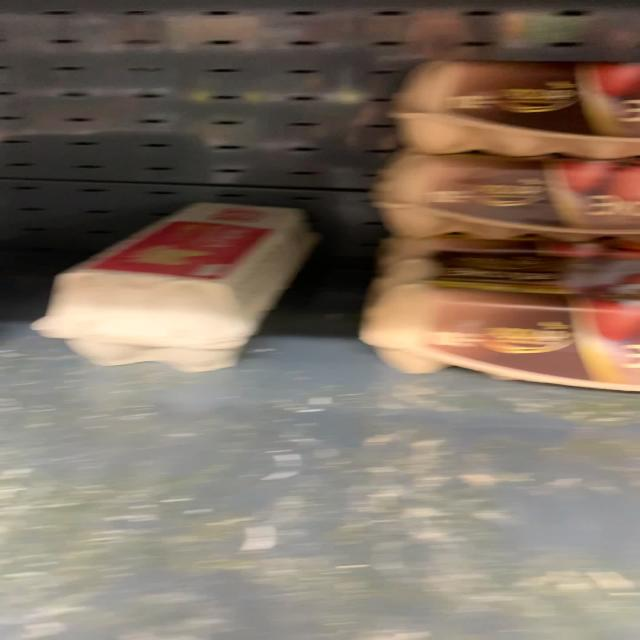egg box: (30, 202, 320, 372), (344, 247, 638, 393), (391, 50, 638, 161), (369, 158, 638, 242)
